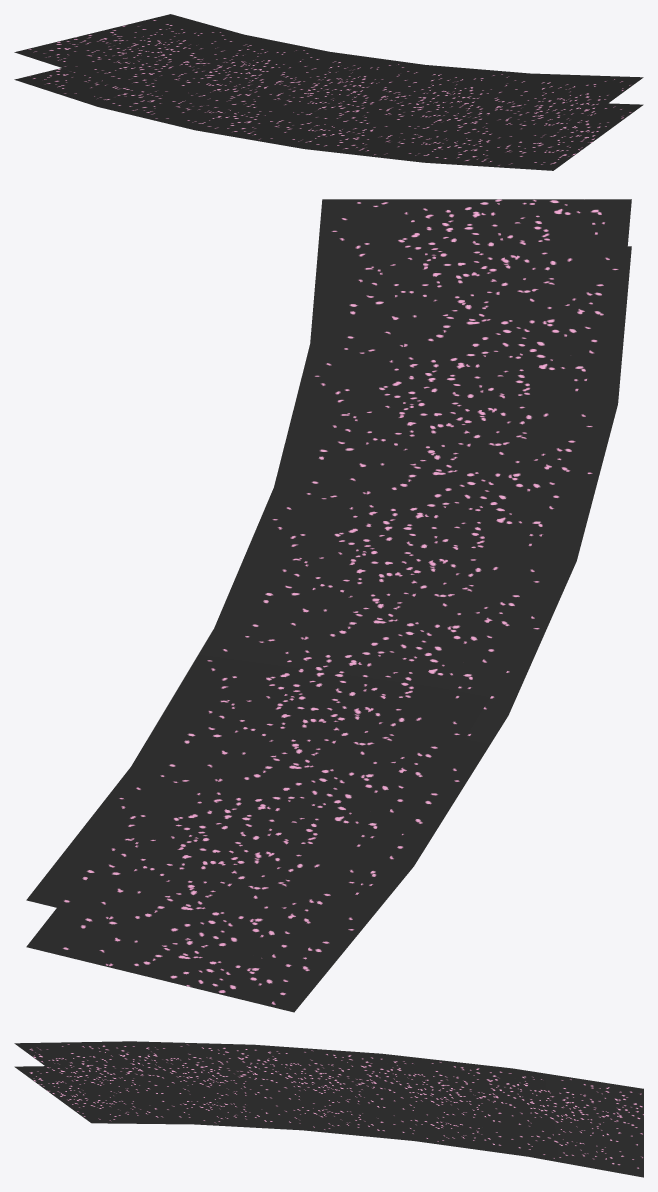
File: CourseSpring_Box_Floor_4.fbx
The picture shows the model from 3 angles, top to bottom: view 1: azimuth 30°, elevation 25°; view 2: azimuth 150°, elevation 25°; view 3: azimuth 270°, elevation 25°; orthographic projection. The views are drawn at different scales.
Visible parts, largest first — view 1: polySurface36; view 2: polySurface36; view 3: polySurface36.
Part boxes in pixels (box(x1,y1,x2,y2)): polySurface36: box(14, 14, 643, 170); polySurface36: box(26, 199, 631, 1012); polySurface36: box(14, 1041, 643, 1177).
Size of the model in its own units: 11.74 by 6 by 24.42.
1 material, 1 textured.
